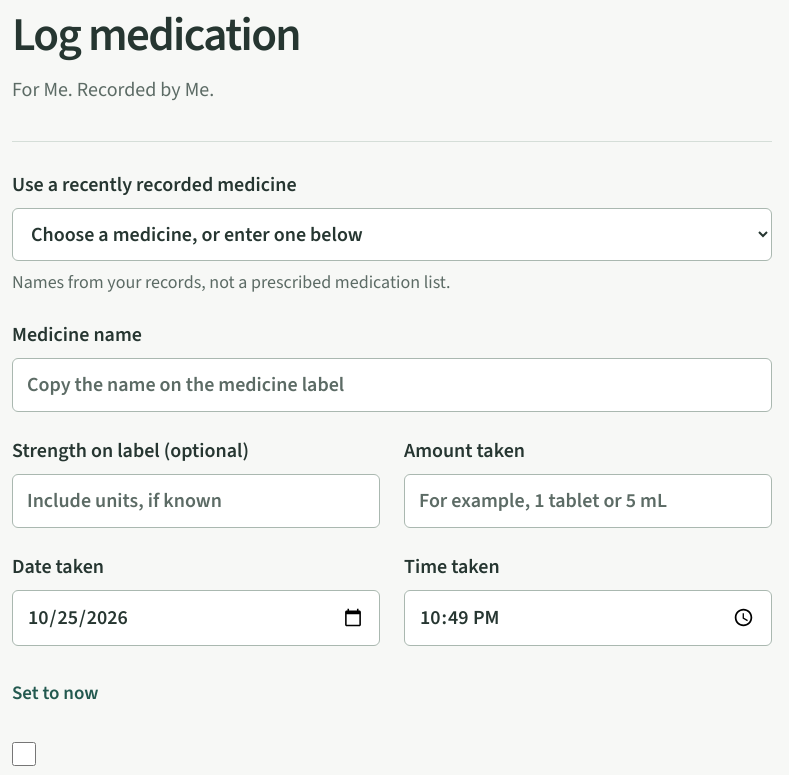
Test: reusing a medicine requires entering the amount again
Type "2 tablets" into the field labelled "Amount taken".
click(588, 501); type("2 tablets")  # box [404,474,772,528]
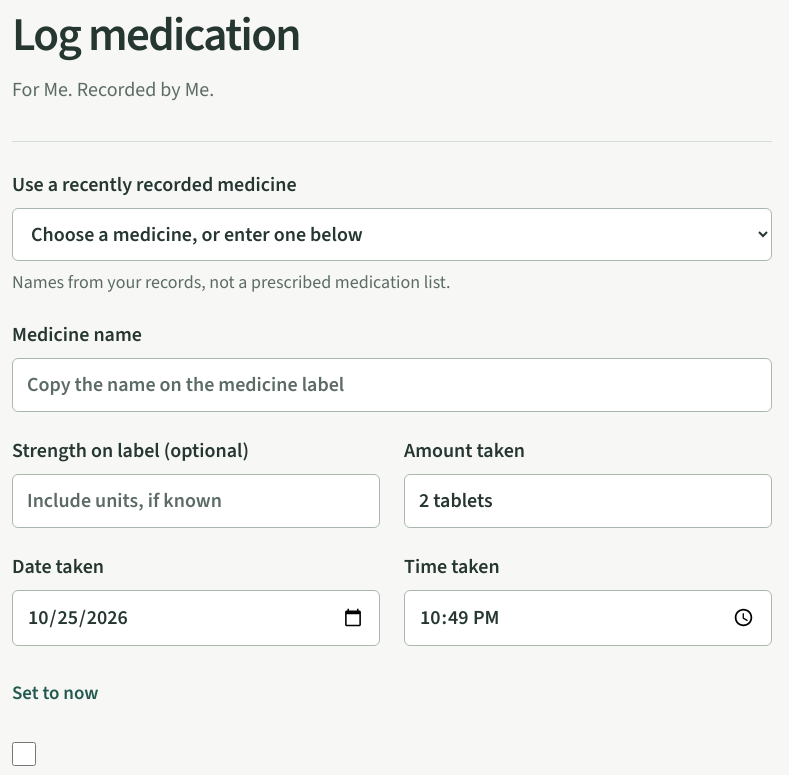
Select "Example medicine · 10 mg" in the dropdown at (392, 234), box [12,208,772,261]
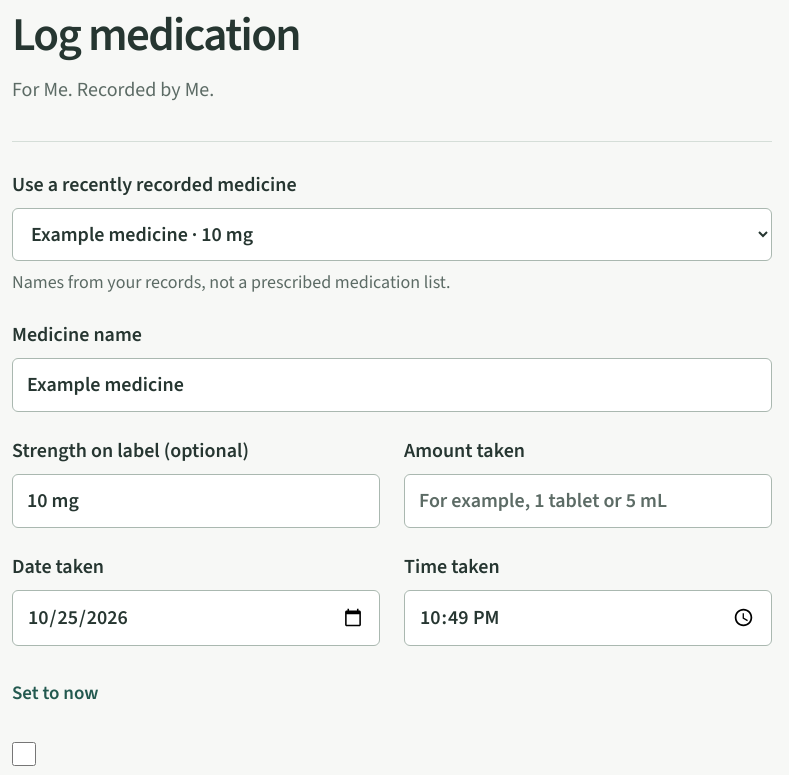
Check: the field labelled "Medicine name" holds "Example medicine", box [12,358,772,412]
Check: the field labelled "Amount taken" is empty, box [404,474,772,528]
